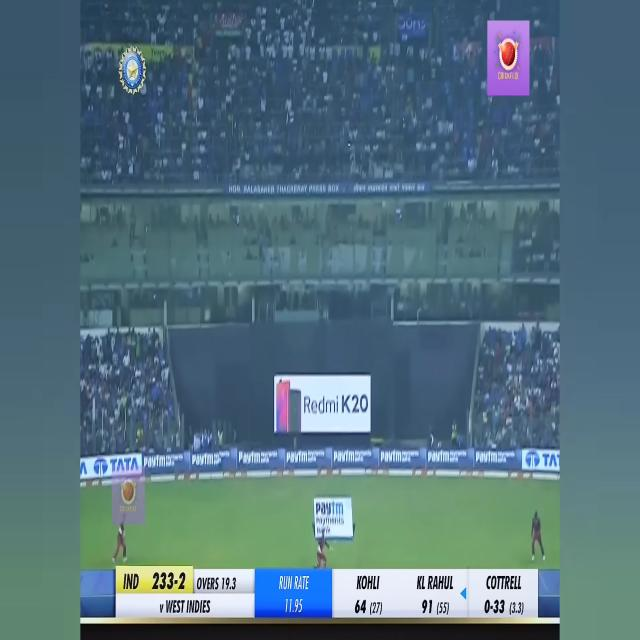fully_visible: (313, 494, 345, 520), (380, 444, 402, 470), (141, 452, 165, 475), (333, 445, 355, 467), (237, 449, 262, 467), (476, 446, 498, 466), (284, 451, 308, 466), (428, 450, 449, 465), (190, 454, 214, 467)
